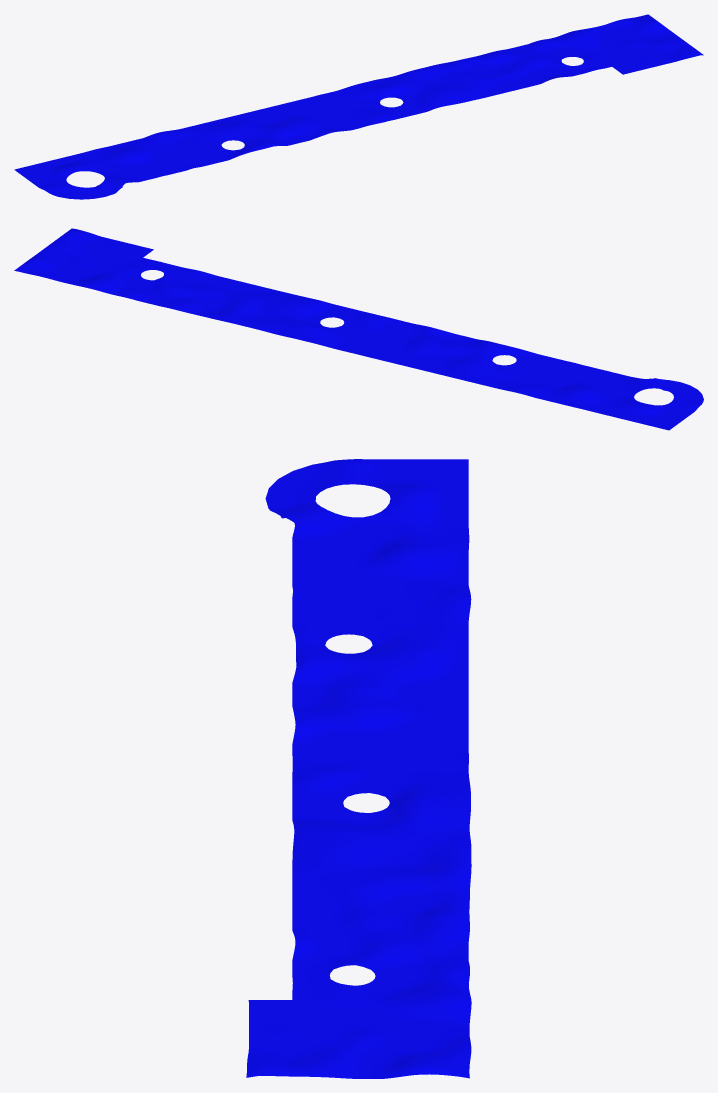
The picture shows the model from 3 angles, top to bottom: view 1: azimuth 30°, elevation 25°; view 2: azimuth 150°, elevation 25°; view 3: azimuth 270°, elevation 25°; orthographic projection. The views are drawn at different scales.
Visible parts, largest first — view 1: ET_planeite; view 2: ET_planeite; view 3: ET_planeite.
Part boxes in pixels (<box>): ET_planeite: <box>14,14,703,199</box>; ET_planeite: <box>14,228,703,430</box>; ET_planeite: <box>246,459,471,1078</box>.
Bounding box in the file's own units: 5.5 × 0.0232 × 0.845.
